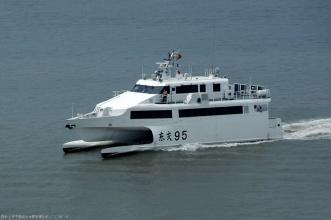yacht: (50, 39, 293, 155)
